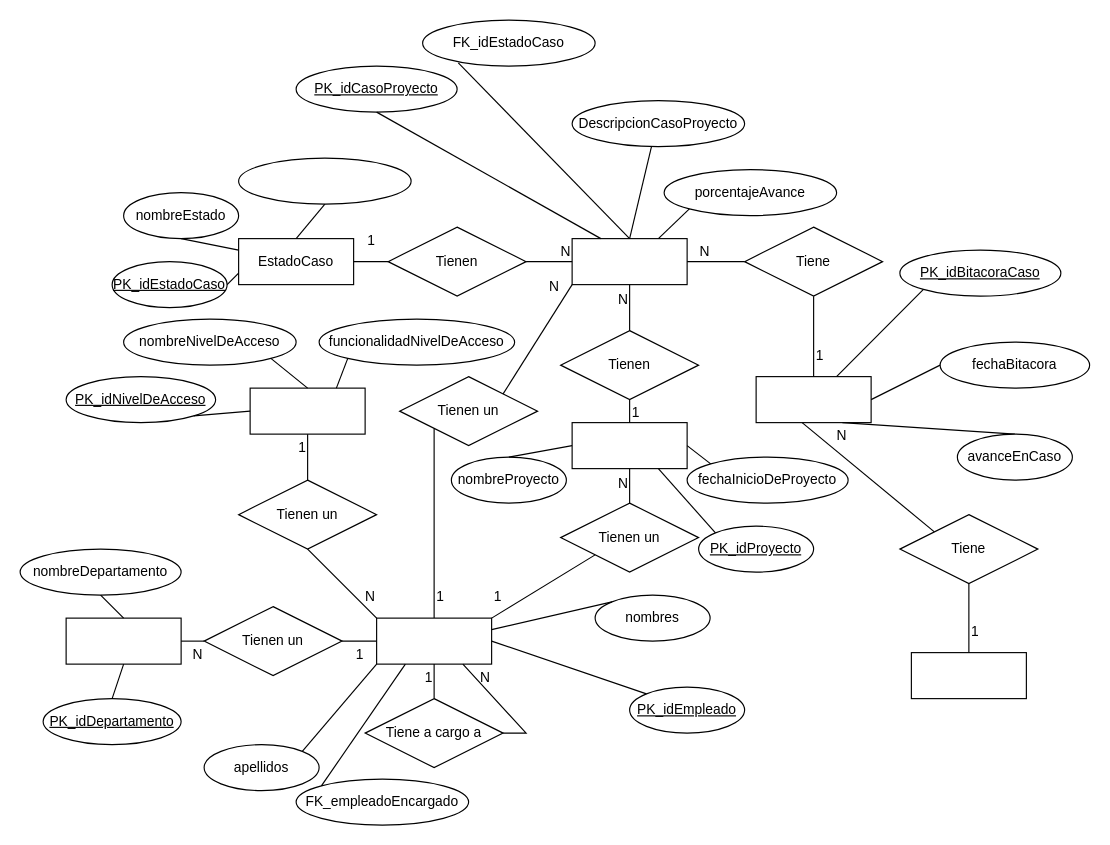
Image size: 1110x845. Some labels were removed from this diagram. Each missing label, with the centre of its shape:
BitacoraCaso: (813,399)
CasoProyecto: (629,261)
Departamentos: (123,640)
descripcionEstadoCaso: (324,180)
Empleados: (433,640)
EstadoBitacora: (968,675)
NivelDeAcceso: (307,410)
Proyectos: (629,445)
